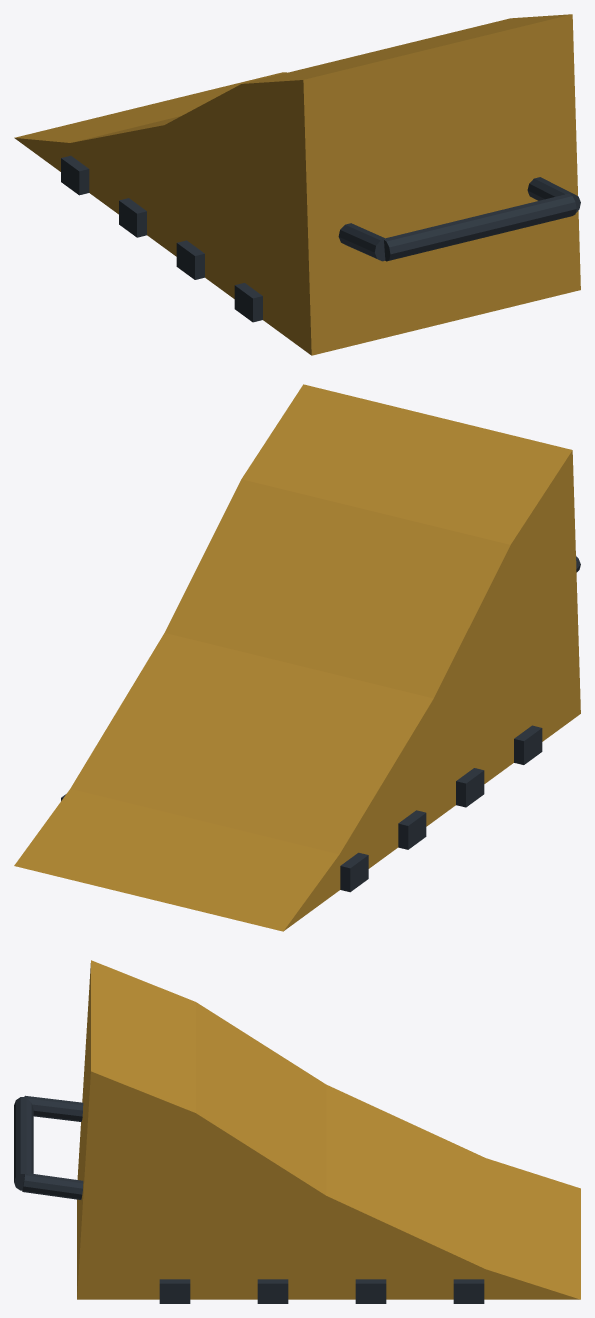
The model's file is C-02_wheel_chock.glb.
The picture shows the model from 3 angles, top to bottom: view 1: azimuth 30°, elevation 25°; view 2: azimuth 150°, elevation 25°; view 3: azimuth 270°, elevation 25°; orthographic projection. The views are drawn at different scales.
Parts seen in each view (by area): view 1: C-02_wheel_chock; view 2: C-02_wheel_chock; view 3: C-02_wheel_chock.
Boxes of the visible parts, x1,y1,x2,y2 form: C-02_wheel_chock: (14,14,580,355); C-02_wheel_chock: (14,384,580,931); C-02_wheel_chock: (14,960,580,1303).
Size of the model in its own units: 0.202 by 0.18 by 0.405.
